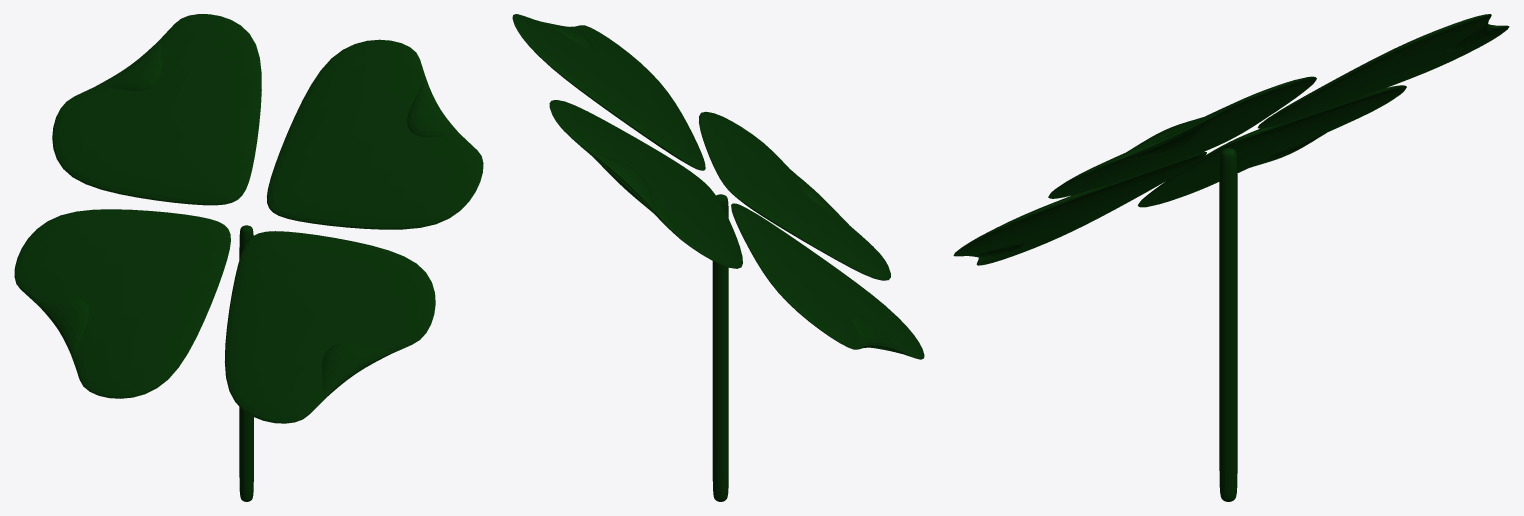
The model's file is клевер.obj.
3 views of the same model, side by side, from view 1: azimuth 30°, elevation 25°; view 2: azimuth 150°, elevation 25°; view 3: azimuth 270°, elevation 25° (orthographic). The views are drawn at different scales.
Visible parts, largest first — view 1: Cube.002, Cube.004, Cube.001, Cube.003, Cube; view 2: Cube.002, Cube.004, Cube.003, Cube.001, Cube; view 3: Cube.003, Cube.002, Cube.004, Cube, Cube.001.
Boxes of the visible parts, x1,y1,x2,y2 form: Cube.002: (52,14,261,205); Cube.004: (224,231,435,423); Cube.001: (14,209,230,398); Cube.003: (267,39,483,229); Cube: (239,225,253,501); Cube.002: (549,100,742,268); Cube.004: (699,111,890,280); Cube.003: (512,14,705,170); Cube.001: (731,203,924,359); Cube: (712,194,728,501); Cube.003: (1048,76,1316,198); Cube.002: (1257,14,1509,128); Cube.004: (953,151,1206,265); Cube: (1219,148,1237,501); Cube.001: (1138,85,1406,207).
Size of the model in its own units: 2.68 by 2.93 by 2.85.
